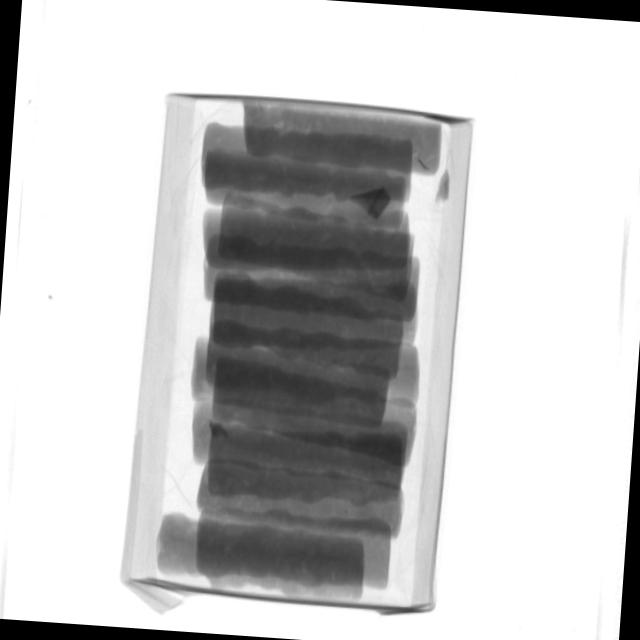ym: (355, 185, 392, 219), (435, 166, 453, 206), (209, 423, 235, 440), (419, 160, 434, 171)
